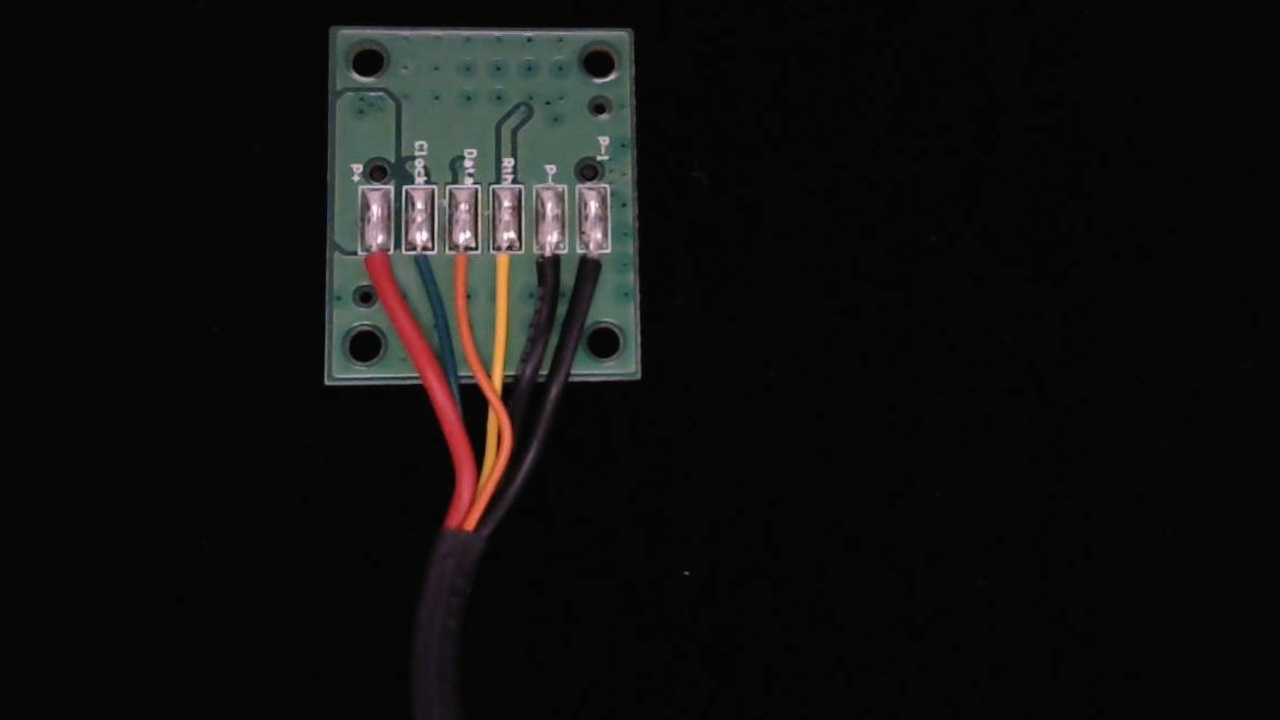Black: (532, 231, 569, 305)
Black1: (577, 235, 613, 307)
Green: (403, 233, 439, 300)
Orange: (446, 231, 480, 299)
Red: (359, 234, 395, 306)
Yellow: (490, 229, 525, 303)
